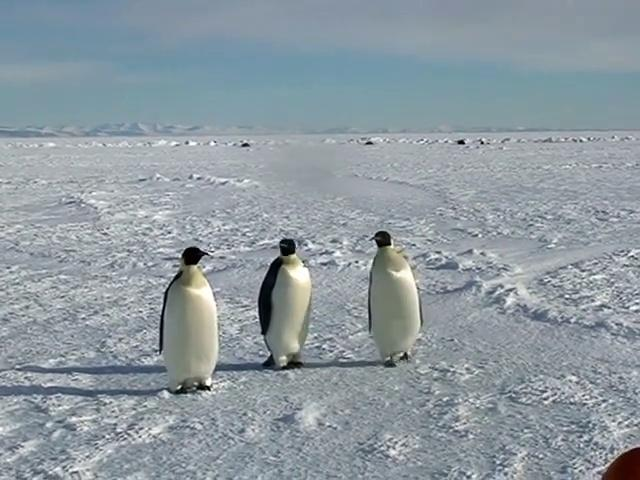animal: (370, 232, 424, 367)
